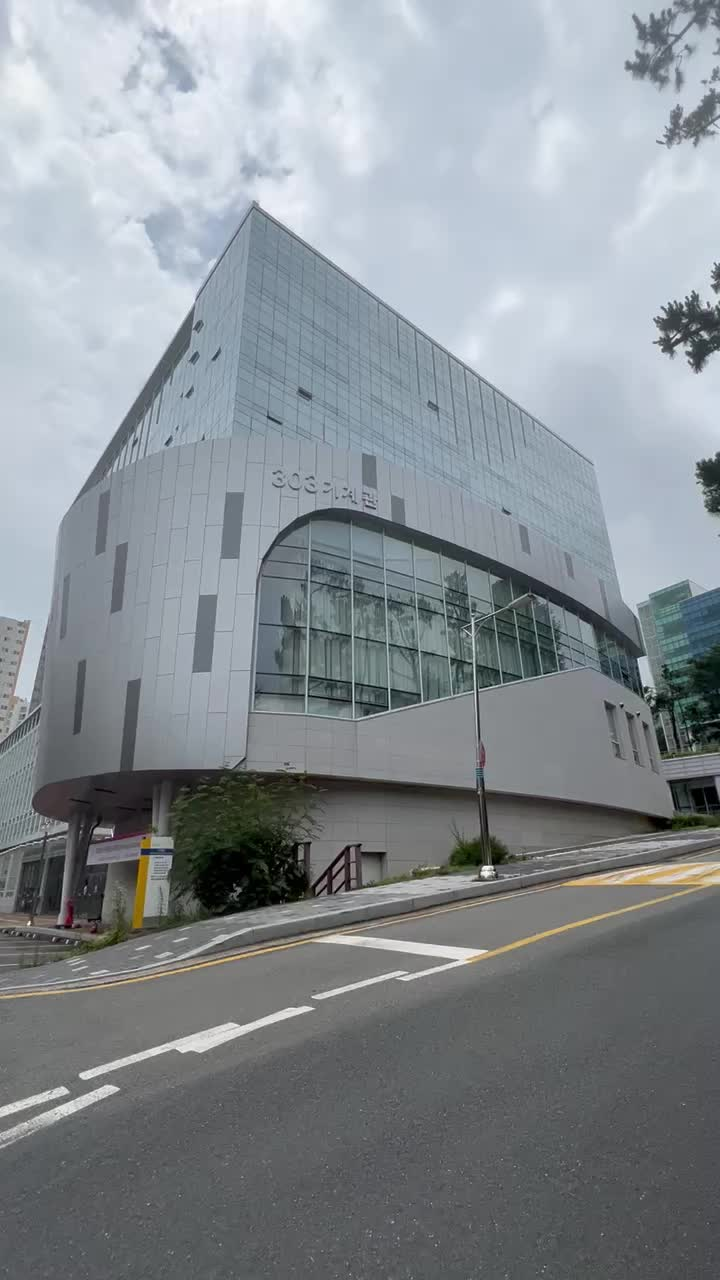low: (78, 248, 626, 792)
